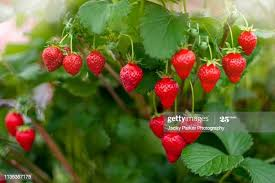Fresa: (160, 127, 188, 166), (170, 46, 199, 83), (221, 47, 249, 85), (117, 58, 145, 95), (152, 74, 180, 110), (40, 40, 68, 75), (178, 111, 204, 145), (197, 60, 221, 95), (237, 25, 260, 58), (60, 49, 86, 78), (147, 112, 173, 139), (85, 46, 106, 78), (15, 126, 39, 154), (3, 109, 25, 138)
